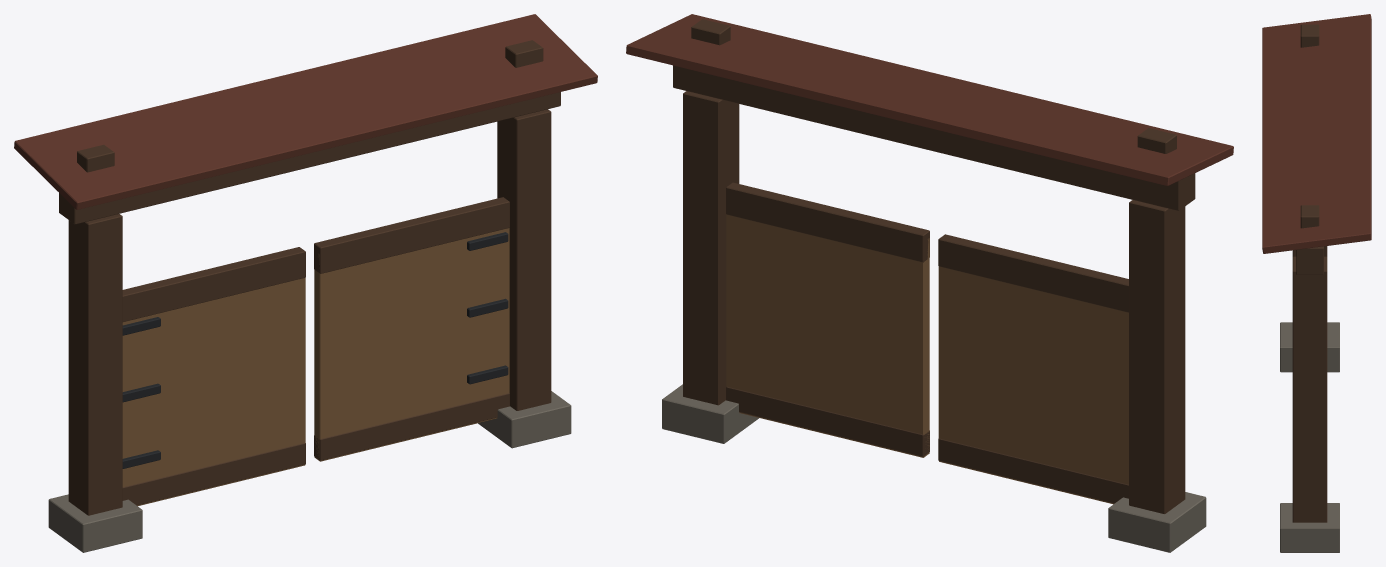
The model's file is V_Porte.glb.
3 renders of one model, left to right at view 1: azimuth 30°, elevation 25°; view 2: azimuth 150°, elevation 25°; view 3: azimuth 270°, elevation 25°, orthographic. The views are drawn at different scales.
Visible parts, largest first — view 1: V_Porte; view 2: V_Porte; view 3: V_Porte.
Boxes of the visible parts, x1,y1,x2,y2 form: V_Porte: (14, 14, 597, 552); V_Porte: (626, 14, 1233, 552); V_Porte: (1262, 14, 1371, 552).
Bounding box in the file's own units: 4.5 × 3.15 × 0.9488.
